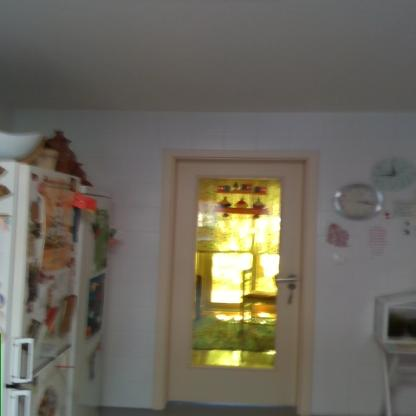closed: (145, 135, 339, 408)
